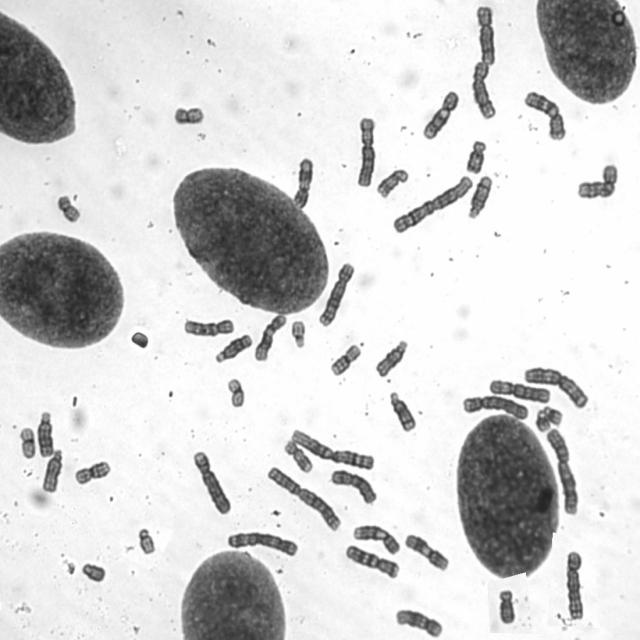A1: (389, 172, 474, 236), (286, 425, 376, 471)
A2: (264, 463, 342, 532), (544, 424, 580, 516)
A3: (521, 363, 590, 410), (224, 528, 299, 558)
B4: (191, 448, 232, 516), (457, 396, 530, 420)
B5: (316, 258, 357, 328), (563, 546, 586, 621)
C10: (580, 162, 618, 198), (180, 315, 236, 338)
C11: (403, 530, 450, 572), (290, 152, 316, 212)
C12: (252, 311, 288, 361), (393, 604, 444, 638)
C6: (352, 117, 378, 191), (486, 375, 551, 404)
C7: (522, 88, 568, 142), (342, 541, 401, 579)
C8: (469, 58, 498, 118), (473, 2, 497, 68)
C9: (351, 520, 402, 556), (422, 88, 460, 136)
D13: (212, 331, 255, 363), (36, 408, 56, 457)
D14: (386, 389, 417, 433), (465, 172, 493, 220)
D15: (372, 337, 409, 378), (39, 446, 65, 493)
E16: (328, 341, 363, 377), (73, 459, 112, 485)
E17: (282, 438, 315, 474), (374, 166, 409, 199)
E18: (463, 137, 488, 173), (496, 586, 515, 626)
F19: (16, 425, 38, 459), (225, 374, 246, 408)
F20: (170, 100, 206, 126), (56, 193, 82, 225)
G21: (542, 404, 565, 427), (533, 407, 551, 432)
G22: (288, 316, 308, 350), (135, 525, 156, 555)
X: (327, 466, 376, 506)
Y: (79, 559, 107, 583)
